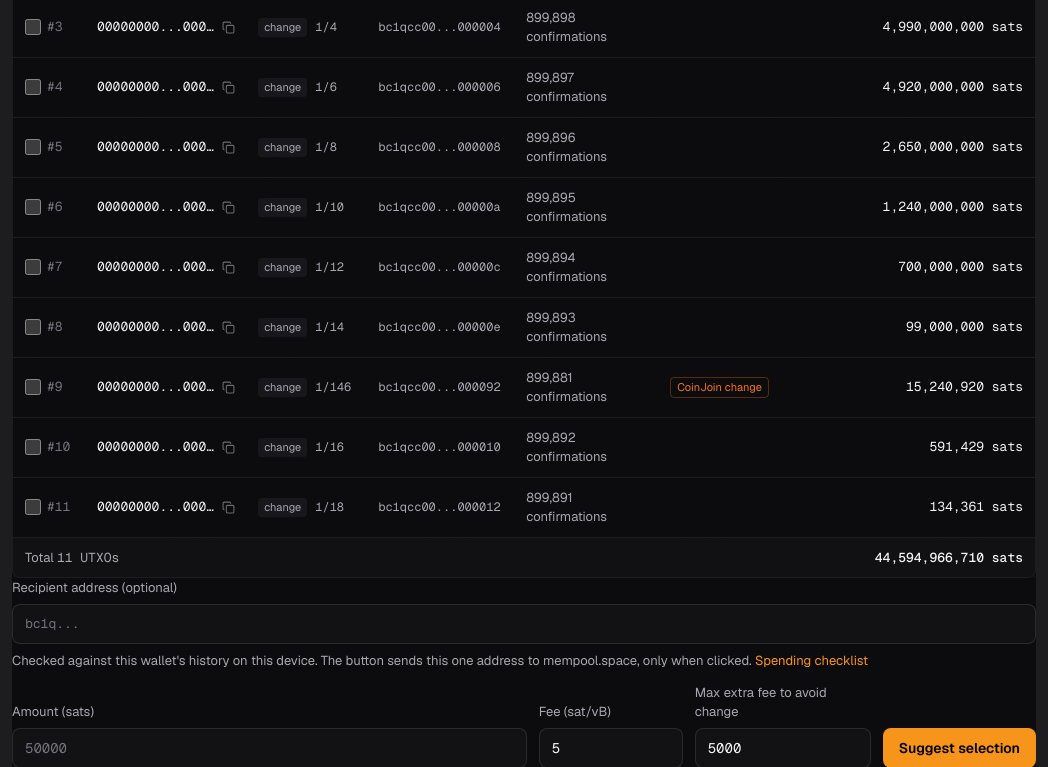
Test: manual coin control: small change › offers to pay small change to miners and shows no change
(page scrolled)
Click the checkbox labelled "#10": x=33, y=447 [25, 439, 41, 455]
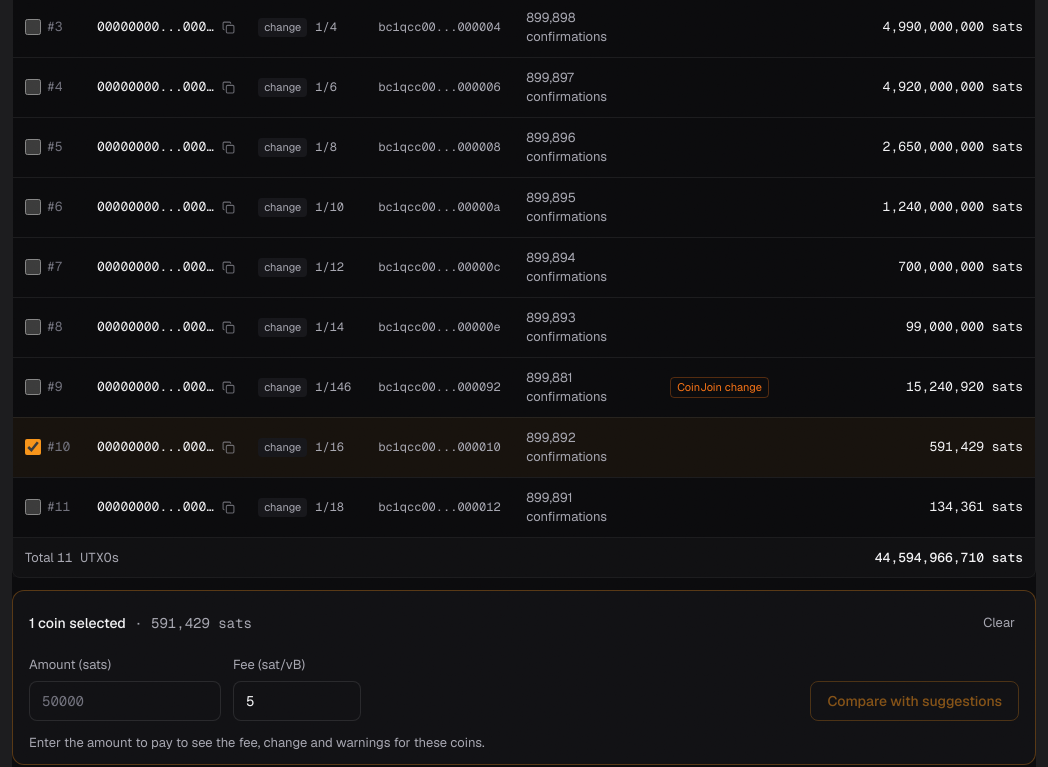
Click the checkbox labelled "#11": x=33, y=507 [25, 499, 41, 515]
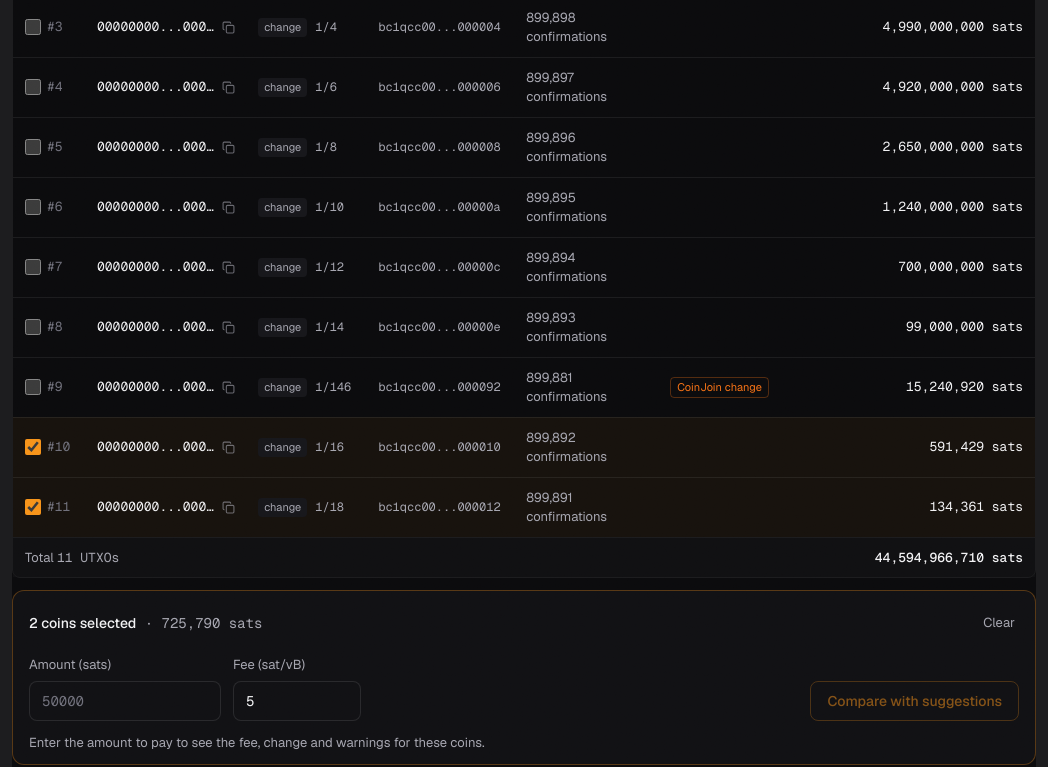
In the number field labelled "Amount (sats)": x=125, y=700 [29, 680, 221, 720], type "720000"
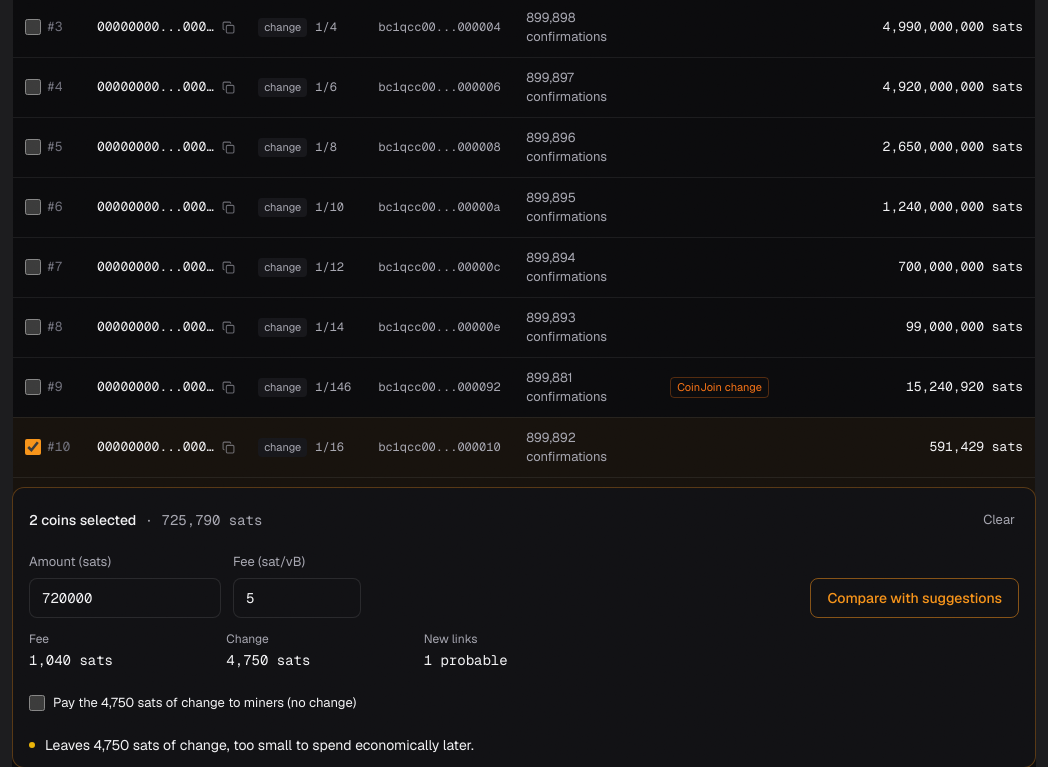
Expected: the text "4,750 sats" is shown, [226, 651, 310, 669]
Click the checkbox labelled "Pay the 4,750 sats of change to miners (no change)": x=37, y=703 [29, 695, 45, 711]
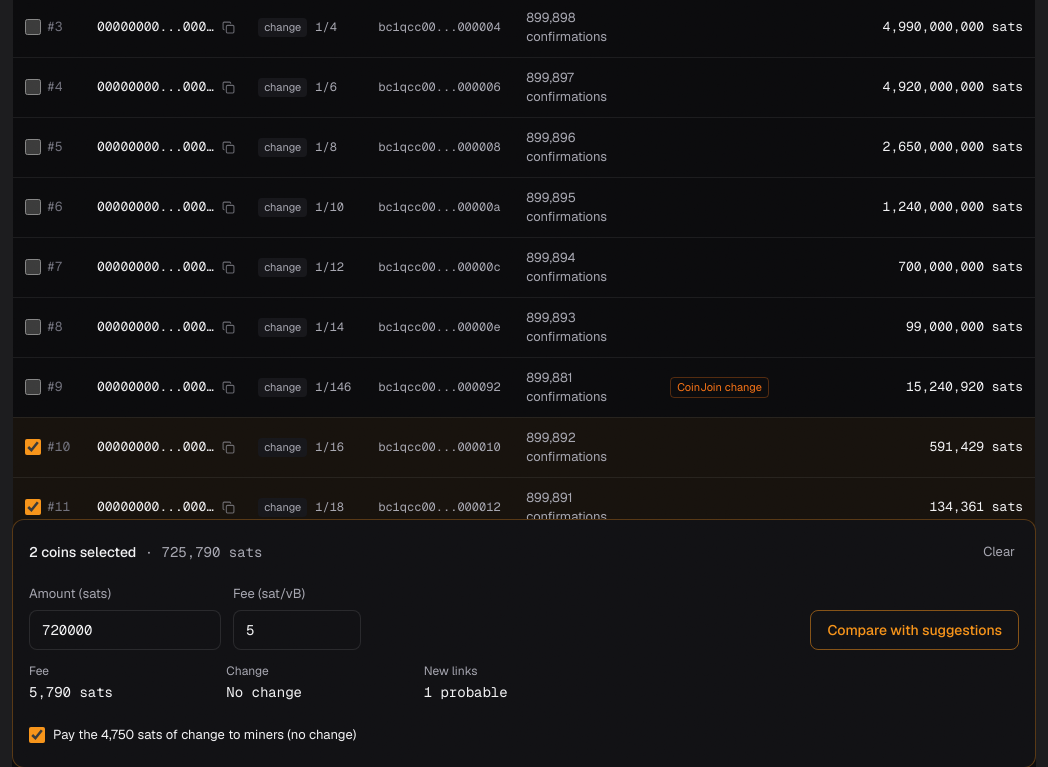
Expected: the text "No change" is shown, [226, 683, 302, 701]
Expected: the text "5,790 sats" is shown, [29, 683, 113, 701]
